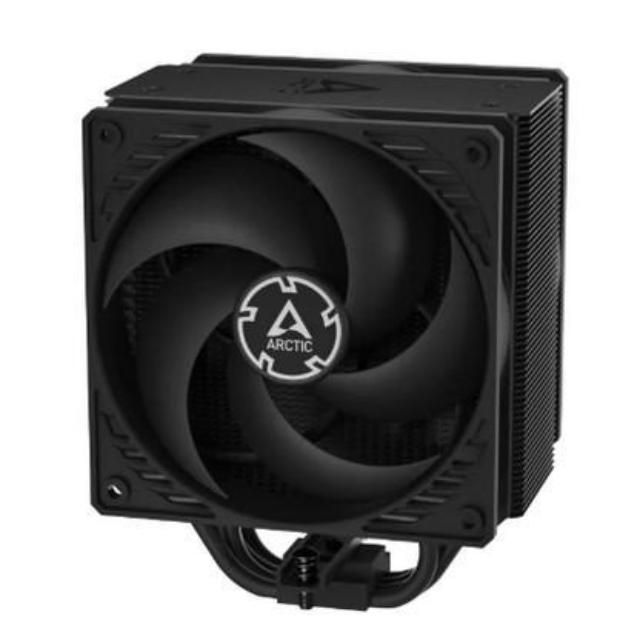CPU_Fan: (84, 46, 562, 614)
